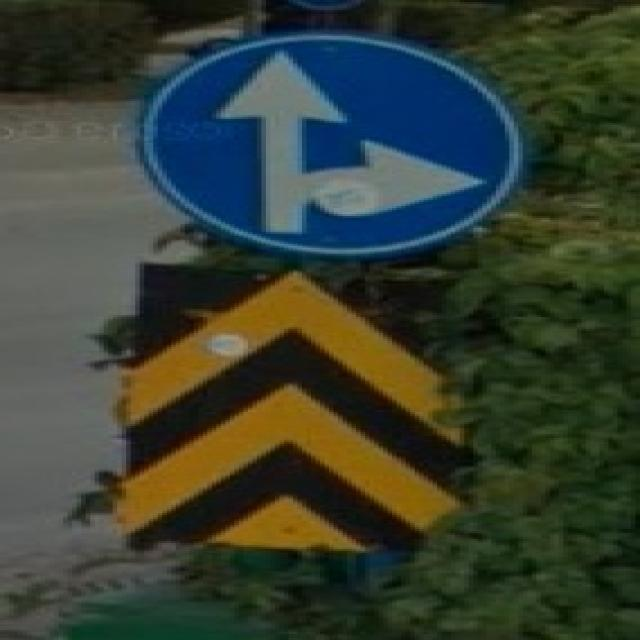Straight or Right: (150, 41, 465, 257)
